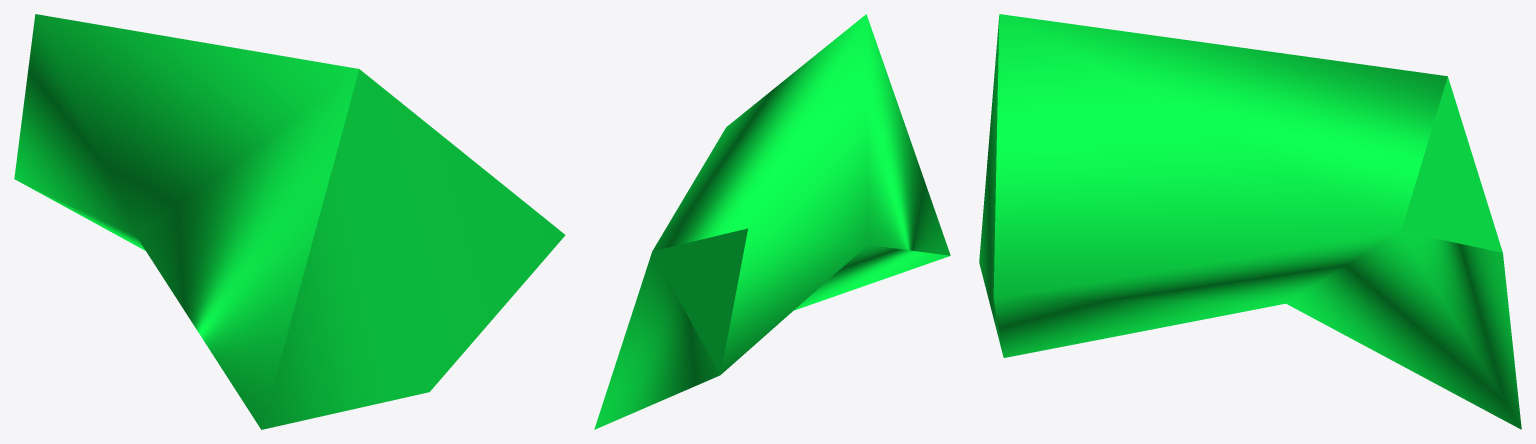
The model's file is Plant01_a_col.FBX.
The picture shows the model from 3 angles, left to right: view 1: azimuth 30°, elevation 25°; view 2: azimuth 150°, elevation 25°; view 3: azimuth 270°, elevation 25°; orthographic projection. The views are drawn at different scales.
Visible parts, largest first — view 1: Plant01_a_col; view 2: Plant01_a_col; view 3: Plant01_a_col.
Boxes of the visible parts, x1,y1,x2,y2 form: Plant01_a_col: [14, 14, 565, 429]; Plant01_a_col: [594, 14, 950, 429]; Plant01_a_col: [979, 14, 1521, 429].
Bounding box in the file's own units: 112 × 138 × 183.
